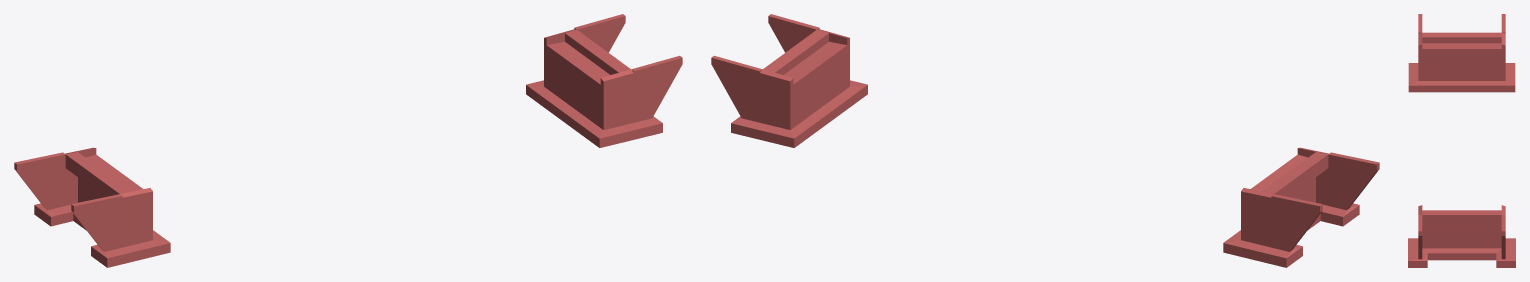
The model's file is bridge4_abutments.obj.
3 renders of one model, left to right at view 1: azimuth 30°, elevation 25°; view 2: azimuth 150°, elevation 25°; view 3: azimuth 270°, elevation 25°, orthographic. The views are drawn at different scales.
Parts seen in each view (by area): view 1: mesh_1, mesh_0; view 2: mesh_1, mesh_0; view 3: mesh_0, mesh_1.
Part boxes in pixels (left/top/right/bottom): mesh_1: left=526, top=14, right=682, bottom=147; mesh_0: left=14, top=147, right=170, bottom=267; mesh_1: left=711, top=14, right=867, bottom=147; mesh_0: left=1223, top=147, right=1379, bottom=267; mesh_0: left=1408, top=14, right=1515, bottom=92; mesh_1: left=1408, top=205, right=1515, bottom=267.
Bounding box in the file's own units: 100 × 9.95 × 21.
